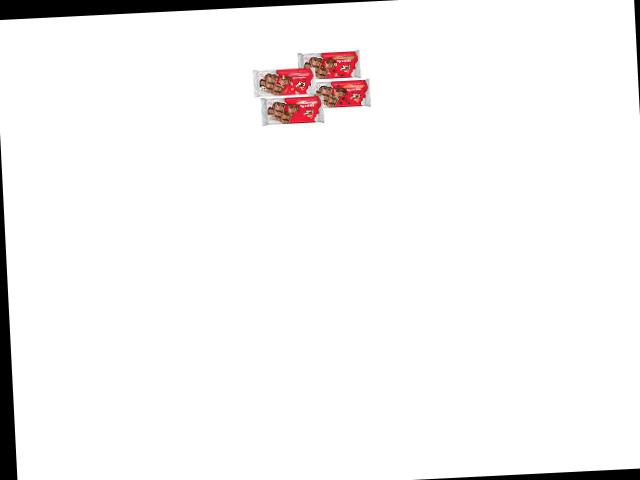chocolate: (293, 46, 366, 86)
